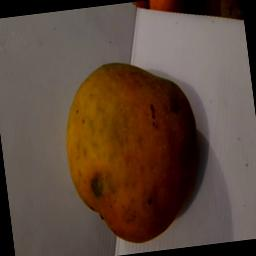Mango Ripe: (45, 47, 217, 250)
